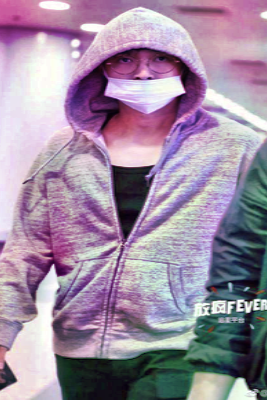mask_weared_incorrect: (99, 50, 186, 114)
